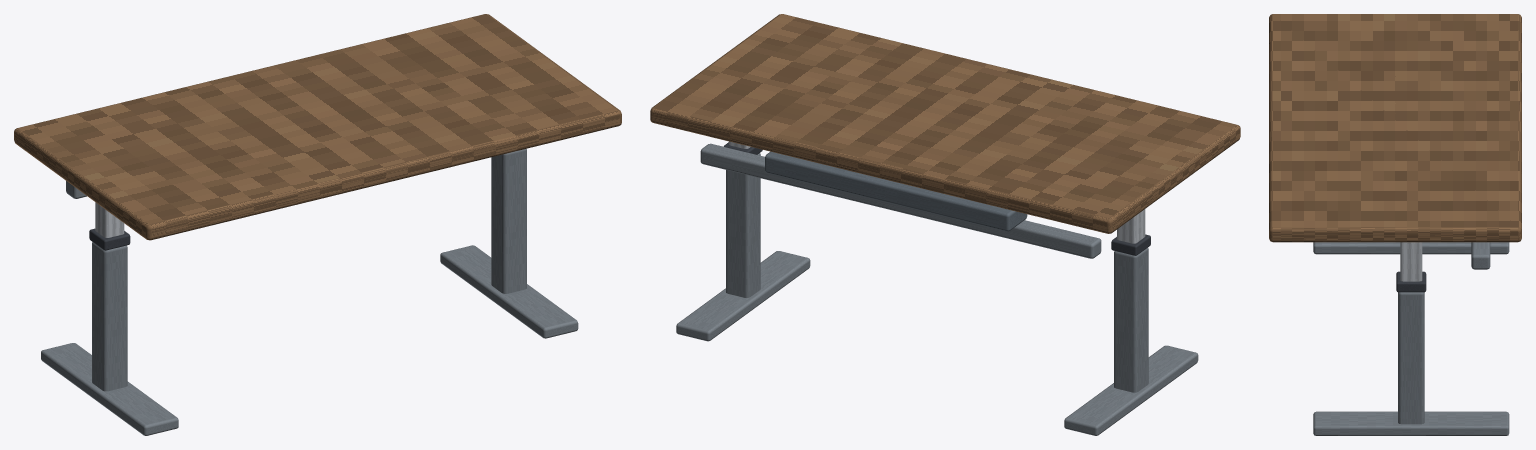
Rendered from desk_sitstand03.glb.
3 views of the same model, side by side, from view 1: azimuth 30°, elevation 25°; view 2: azimuth 150°, elevation 25°; view 3: azimuth 270°, elevation 25° (orthographic). The views are drawn at different scales.
Visible parts, largest first — view 1: top, lower_leg, foot, upper_leg; view 2: top, lower_leg, foot, cable_tray, crossbar, upper_leg, slider; view 3: top, foot, lower_leg, upper_leg, crossbar, slider.
Boxes of the visible parts, left/top/right/bottom form: top: left=14, top=14, right=621, bottom=240; lower_leg: left=92, top=148, right=526, bottom=391; foot: left=41, top=245, right=578, bottom=435; upper_leg: left=95, top=202, right=124, bottom=237; top: left=650, top=14, right=1240, bottom=233; lower_leg: left=726, top=153, right=1148, bottom=392; foot: left=676, top=251, right=1198, bottom=435; cable_tray: left=765, top=151, right=1027, bottom=231; crossbar: left=700, top=143, right=1101, bottom=258; upper_leg: left=729, top=141, right=1145, bottom=243; slider: left=724, top=142, right=1150, bottom=255; top: left=1269, top=14, right=1521, bottom=242; foot: left=1313, top=242, right=1509, bottom=435; lower_leg: left=1398, top=292, right=1424, bottom=424; upper_leg: left=1400, top=242, right=1422, bottom=281; crossbar: left=1471, top=242, right=1490, bottom=269; slider: left=1396, top=271, right=1426, bottom=292.
Bounding box in the file's own units: 1.62 × 0.759 × 0.8.
5 materials, 5 textured.
